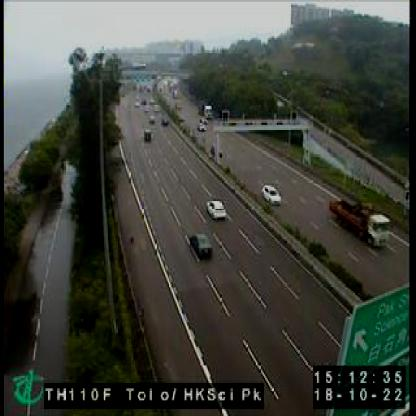Car: (187, 230, 214, 260), (261, 184, 284, 208), (204, 197, 228, 220), (142, 127, 154, 144), (161, 116, 170, 130)
Truck: (328, 192, 392, 251)
